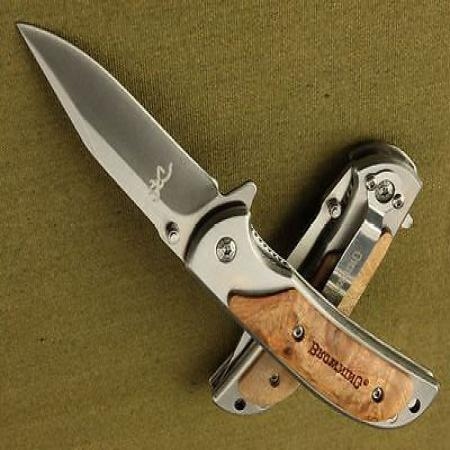long weapon: (12, 14, 222, 273)
